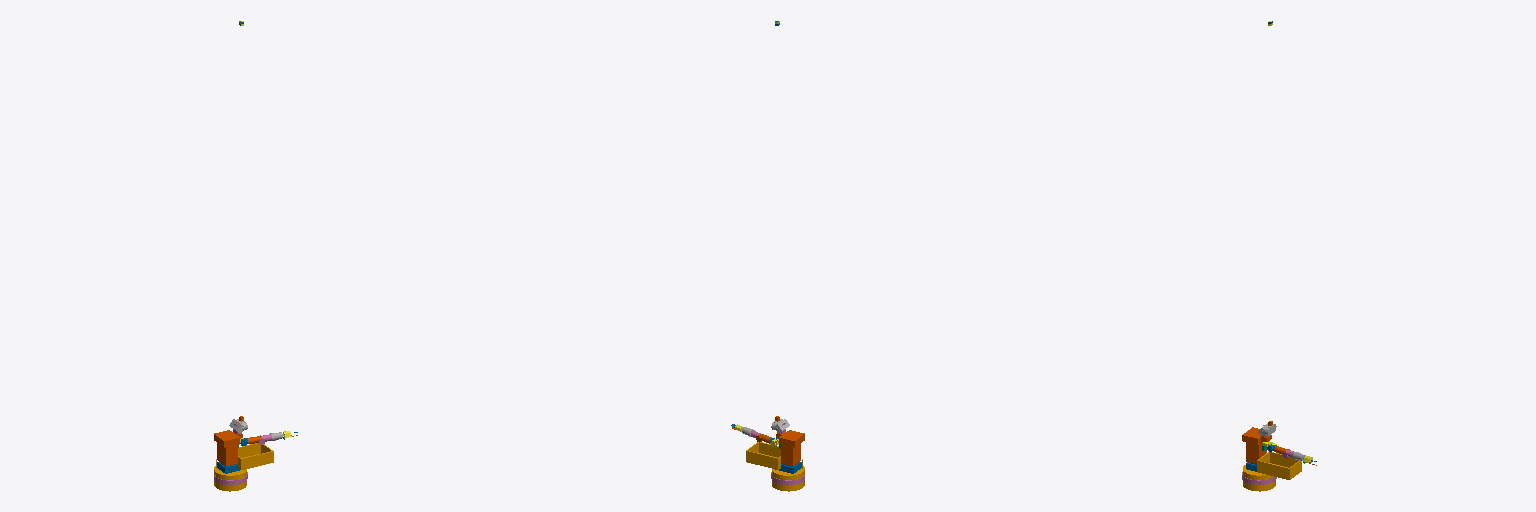
--- Facts derived from the render (not from the file) ---
3 views of the same robot in one strip: view 1: azimuth 30°, elevation 25°; view 2: azimuth 150°, elevation 25°; view 3: azimuth 330°, elevation 25° (orthographic).
Robot: TIAGo Steel — 66 links, 65 joints (9 revolute, 10 continuous, 3 prismatic, 43 fixed); root link base_link; default pose: all joints at 0 but 1 set to mid-range because 0 is outside their limits (arm_1_joint = 1.37).
Links seen in each view (by area): view 1: plastic crate(1), torso_lift_link; view 2: plastic crate(1), torso_lift_link; view 3: plastic crate(1), torso_lift_link.
Boxes of the visible links, box(x1,y1,x2,y2) form: plastic crate(1): box(237, 443, 273, 469); torso_lift_link: box(214, 430, 242, 465); plastic crate(1): box(746, 442, 780, 469); torso_lift_link: box(776, 430, 804, 465); plastic crate(1): box(1257, 452, 1301, 479); torso_lift_link: box(1242, 427, 1271, 463).
Bounding box of the posed robot: 1.41 × 0.544 × 8.11 m (x, y, z).
Geometry: primitives only (box / cylinder / sphere), no mesh files.

The robot description file, URDF, robot "TIAGo Steel":
<?xml version="1.0"?>
<robot name="TIAGo Steel" xmlns:xacro="http://ros.org/wiki/xacro">
  <link name="base_link">
    <visual>
      <origin xyz="0 0 0.06" rpy="0 0 0"/>
      <geometry>
        <cylinder radius="0.265" length="0.276"/>
      </geometry>
    </visual>
    <collision>
      <origin xyz="0 0 0.06" rpy="0 0 0"/>
      <geometry>
        <cylinder radius="0.265" length="0.276"/>
      </geometry>
    </collision>
    <visual>
      <origin xyz="-0.201 0.1062 0.28" rpy="0 0 0"/>
      <geometry>
        <cylinder radius="0.007" length="0.173"/>
      </geometry>
    </visual>
    <collision>
      <origin xyz="-0.201 0.1062 0.28" rpy="0 0 0"/>
      <geometry>
        <cylinder radius="0.007" length="0.173"/>
      </geometry>
    </collision>
    <visual>
      <origin xyz="-0.201 -0.1062 0.28" rpy="0 0 0"/>
      <geometry>
        <cylinder radius="0.007" length="0.173"/>
      </geometry>
    </visual>
    <collision>
      <origin xyz="-0.201 -0.1062 0.28" rpy="0 0 0"/>
      <geometry>
        <cylinder radius="0.007" length="0.173"/>
      </geometry>
    </collision>
  </link>
  <joint name="CASTER_WHEEL_BACK_LEFT_JOINT" type="continuous">
    <parent link="base_link"/>
    <child link="caster_back_left_1_link"/>
    <axis xyz="-0.000001 0 1"/>
    <origin xyz="-0.1735 0.102 -0.0335" rpy="0 0.000001 0.762229"/>
  </joint>
  <link name="caster_back_left_1_link">
    <visual>
      <origin xyz="-0.003001 0.000001 -0.02183" rpy="0 0 0"/>
      <geometry>
        <box size="0.036 0.032 0.04"/>
      </geometry>
    </visual>
    <collision>
      <origin xyz="-0.003001 0.000001 -0.02183" rpy="0 0 0"/>
      <geometry>
        <box size="0.036 0.032 0.04"/>
      </geometry>
    </collision>
  </link>
  <joint name="SMALL_WHEEL_JOINT" type="continuous">
    <parent link="caster_back_left_1_link"/>
    <child link="caster_back_left_2_link"/>
    <axis xyz="0 -0.000004 1"/>
    <origin xyz="-0.016001 0.000001 -0.03983" rpy="-1.5708 0.019738 0"/>
  </joint>
  <link name="caster_back_left_2_link">
    <visual>
      <origin xyz="0 0 0" rpy="0 0 0"/>
      <geometry>
        <cylinder radius="0.025" length="0.015"/>
      </geometry>
    </visual>
    <collision>
      <origin xyz="0 0 0" rpy="0 0 0"/>
      <geometry>
        <cylinder radius="0.025" length="0.015"/>
      </geometry>
    </collision>
  </link>
  <joint name="CASTER_WHEEL_BACK_RIGHT_JOINT" type="continuous">
    <parent link="base_link"/>
    <child link="caster_back_right_1_link"/>
    <axis xyz="-0.000003 0 1"/>
    <origin xyz="-0.1735 -0.102 -0.0335" rpy="0 0.000003 -0.833131"/>
  </joint>
  <link name="caster_back_right_1_link">
    <visual>
      <origin xyz="-0.003004 0.000002 -0.021547" rpy="0 0 0"/>
      <geometry>
        <box size="0.036 0.032 0.04"/>
      </geometry>
    </visual>
    <collision>
      <origin xyz="-0.003004 0.000002 -0.021547" rpy="0 0 0"/>
      <geometry>
        <box size="0.036 0.032 0.04"/>
      </geometry>
    </collision>
  </link>
  <joint name="SMALL_WHEEL_JOINT_0" type="continuous">
    <parent link="caster_back_right_1_link"/>
    <child link="caster_back_right_2_link"/>
    <axis xyz="0 -0.000004 1"/>
    <origin xyz="-0.016004 0.000002 -0.039547" rpy="-1.5708 0.060546 0"/>
  </joint>
  <link name="caster_back_right_2_link">
    <visual>
      <origin xyz="0 0 0" rpy="0 0 0"/>
      <geometry>
        <cylinder radius="0.025" length="0.015"/>
      </geometry>
    </visual>
    <collision>
      <origin xyz="0 0 0" rpy="0 0 0"/>
      <geometry>
        <cylinder radius="0.025" length="0.015"/>
      </geometry>
    </collision>
  </link>
  <joint name="CASTER_WHEEL_FRONT_LEFT_JOINT" type="continuous">
    <parent link="base_link"/>
    <child link="caster_front_left_1_link"/>
    <axis xyz="-0.000003 0 1"/>
    <origin xyz="0.1695 0.102 -0.0335" rpy="0 0.000003 -0.264625"/>
  </joint>
  <link name="caster_front_left_1_link">
    <visual>
      <origin xyz="-0.003004 0.000002 -0.02154" rpy="0 0 0"/>
      <geometry>
        <box size="0.036 0.032 0.04"/>
      </geometry>
    </visual>
    <collision>
      <origin xyz="-0.003004 0.000002 -0.02154" rpy="0 0 0"/>
      <geometry>
        <box size="0.036 0.032 0.04"/>
      </geometry>
    </collision>
  </link>
  <joint name="SMALL_WHEEL_JOINT_1" type="continuous">
    <parent link="caster_front_left_1_link"/>
    <child link="caster_front_left_2_link"/>
    <axis xyz="0 -0.000004 1"/>
    <origin xyz="-0.016004 0.000002 -0.03954" rpy="-1.5708 0.04558 0"/>
  </joint>
  <link name="caster_front_left_2_link">
    <visual>
      <origin xyz="0 0 0" rpy="0 0 0"/>
      <geometry>
        <cylinder radius="0.025" length="0.015"/>
      </geometry>
    </visual>
    <collision>
      <origin xyz="0 0 0" rpy="0 0 0"/>
      <geometry>
        <cylinder radius="0.025" length="0.015"/>
      </geometry>
    </collision>
  </link>
  <joint name="CASTER_WHEEL_FRONT_RIGHT_JOINT" type="continuous">
    <parent link="base_link"/>
    <child link="caster_front_right_1_link"/>
    <axis xyz="-0.000005 0 1"/>
    <origin xyz="0.1695 -0.102 -0.0335" rpy="0 0.000005 -0.331093"/>
  </joint>
  <link name="caster_front_right_1_link">
    <visual>
      <origin xyz="-0.003007 0.000003 -0.021257" rpy="0 0 0"/>
      <geometry>
        <box size="0.036 0.032 0.04"/>
      </geometry>
    </visual>
    <collision>
      <origin xyz="-0.003007 0.000003 -0.021257" rpy="0 0 0"/>
      <geometry>
        <box size="0.036 0.032 0.04"/>
      </geometry>
    </collision>
  </link>
  <joint name="SMALL_WHEEL_JOINT_2" type="continuous">
    <parent link="caster_front_right_1_link"/>
    <child link="caster_front_right_2_link"/>
    <axis xyz="0 -0.000004 1"/>
    <origin xyz="-0.016007 0.000003 -0.039257" rpy="-1.5708 0.031918 0"/>
  </joint>
  <link name="caster_front_right_2_link">
    <visual>
      <origin xyz="0 0 0" rpy="0 0 0"/>
      <geometry>
        <cylinder radius="0.025" length="0.015"/>
      </geometry>
    </visual>
    <collision>
      <origin xyz="0 0 0" rpy="0 0 0"/>
      <geometry>
        <cylinder radius="0.025" length="0.015"/>
      </geometry>
    </collision>
  </link>
  <joint name="wheel_left_joint" type="continuous">
    <parent link="base_link"/>
    <child link="wheel_left_link"/>
    <axis xyz="0 -0.000004 -1"/>
    <limit effort="10" velocity="10.1523"/>
    <origin xyz="0 0.2022 0" rpy="1.570801 0.015687 0"/>
  </joint>
  <link name="wheel_left_link">
    <visual>
      <origin xyz="-0.000002 0.000055 0.000193" rpy="0 0 0"/>
      <geometry>
        <cylinder radius="0.0985" length="0.04"/>
      </geometry>
    </visual>
    <collision>
      <origin xyz="-0.000002 0.000055 0.000193" rpy="0 0 0"/>
      <geometry>
        <cylinder radius="0.0985" length="0.04"/>
      </geometry>
    </collision>
  </link>
  <joint name="wheel_right_joint" type="continuous">
    <parent link="base_link"/>
    <child link="wheel_right_link"/>
    <axis xyz="0 -0.000005 -1"/>
    <limit effort="10" velocity="10.1523"/>
    <origin xyz="-0.000002 -0.202145 0.000193" rpy="1.570801 0.015425 0"/>
  </joint>
  <link name="wheel_right_link">
    <visual>
      <origin xyz="-0.000007 0.000291 -0.000214" rpy="0 0 0"/>
      <geometry>
        <cylinder radius="0.0985" length="0.04"/>
      </geometry>
    </visual>
    <collision>
      <origin xyz="-0.000007 0.000291 -0.000214" rpy="0 0 0"/>
      <geometry>
        <cylinder radius="0.0985" length="0.04"/>
      </geometry>
    </collision>
  </link>
  <link name="base_sonar_01_link">
  </link>
  <joint name="base_link_base_sonar_01_link_joint" type="fixed">
    <parent link="base_link"/>
    <child link="base_sonar_01_link"/>
    <origin xyz="-0.183007 -0.182709 0.172786" rpy="0 0 -2.356185"/>
  </joint>
  <link name="base_sonar_02_link">
  </link>
  <joint name="base_link_base_sonar_02_link_joint" type="fixed">
    <parent link="base_link"/>
    <child link="base_sonar_02_link"/>
    <origin xyz="-0.259 0 0.173" rpy="0 0 -3.141585"/>
  </joint>
  <link name="base_sonar_03_link">
  </link>
  <joint name="base_link_base_sonar_03_link_joint" type="fixed">
    <parent link="base_link"/>
    <child link="base_sonar_03_link"/>
    <origin xyz="-0.183 0.183 0.173" rpy="0 0 2.3562"/>
  </joint>
  <link name="base_cover_link">
    <visual>
      <origin xyz="0 0 0.043" rpy="0 0 0"/>
      <geometry>
        <cylinder radius="0.272" length="0.086"/>
      </geometry>
    </visual>
    <collision>
      <origin xyz="0 0 0.043" rpy="0 0 0"/>
      <geometry>
        <cylinder radius="0.272" length="0.086"/>
      </geometry>
    </collision>
  </link>
  <joint name="base_link_base_cover_link_joint" type="fixed">
    <parent link="base_link"/>
    <child link="base_cover_link"/>
    <origin xyz="0.000001 -0.000001 0.029976" rpy="0 0 0"/>
  </joint>
  <link name="base_footprint">
  </link>
  <joint name="base_link_base_footprint_joint" type="fixed">
    <parent link="base_link"/>
    <child link="base_footprint"/>
    <origin xyz="0 0 -0.095" rpy="0 0 0"/>
  </joint>
  <link name="gyro">
  </link>
  <joint name="base_link_gyro_joint" type="fixed">
    <parent link="base_link"/>
    <child link="gyro"/>
    <origin xyz="0 0 0" rpy="0 0 0"/>
  </joint>
  <link name="inertial unit">
  </link>
  <joint name="base_link_inertial unit_joint" type="fixed">
    <parent link="base_link"/>
    <child link="inertial unit"/>
    <origin xyz="0 0 0" rpy="0 0 0"/>
  </joint>
  <link name="accelerometer">
  </link>
  <joint name="base_link_accelerometer_joint" type="fixed">
    <parent link="base_link"/>
    <child link="accelerometer"/>
    <origin xyz="0 0 0" rpy="0 0 0"/>
  </joint>
  <link name="slam_lidar_1">
    <visual>
      <origin xyz="0 0 -0.018" rpy="1.570741 0.000118 -1.570741"/>
      <geometry>
        <box size="0.05 0.07 0.05"/>
      </geometry>
    </visual>
    <collision>
      <origin xyz="0 0 -0.018" rpy="1.570741 0.000118 -1.570741"/>
      <geometry>
        <box size="0.05 0.07 0.05"/>
      </geometry>
    </collision>
  </link>
  <joint name="base_link_slam_lidar_1_joint" type="fixed">
    <parent link="base_link"/>
    <child link="slam_lidar_1"/>
    <origin xyz="0.202 0 7.996" rpy="0 0 3.14159"/>
  </joint>
  <link name="slam_lidar_0">
    <visual>
      <origin xyz="0 0 -0.018" rpy="1.570741 0.000118 -1.570741"/>
      <geometry>
        <box size="0.05 0.07 0.05"/>
      </geometry>
    </visual>
    <collision>
      <origin xyz="0 0 -0.018" rpy="1.570741 0.000118 -1.570741"/>
      <geometry>
        <box size="0.05 0.07 0.05"/>
      </geometry>
    </collision>
  </link>
  <joint name="base_link_slam_lidar_0_joint" type="fixed">
    <parent link="base_link"/>
    <child link="slam_lidar_0"/>
    <origin xyz="0.202 0 7.996" rpy="0 0 0"/>
  </joint>
  <link name="onboard_lidar_1">
    <visual>
      <origin xyz="0 0 -0.018" rpy="1.570741 0.000118 -1.570741"/>
      <geometry>
        <box size="0.05 0.07 0.05"/>
      </geometry>
    </visual>
    <collision>
      <origin xyz="0 0 -0.018" rpy="1.570741 0.000118 -1.570741"/>
      <geometry>
        <box size="0.05 0.07 0.05"/>
      </geometry>
    </collision>
  </link>
  <joint name="base_link_onboard_lidar_1_joint" type="fixed">
    <parent link="base_link"/>
    <child link="onboard_lidar_1"/>
    <origin xyz="0.202 0 1.046" rpy="0 0 0"/>
  </joint>
  <link name="gps(1)">
  </link>
  <joint name="base_link_gps(1)_joint" type="fixed">
    <parent link="base_link"/>
    <child link="gps(1)"/>
    <origin xyz="0.202 0 -0.004" rpy="0 0 0"/>
  </joint>
  <link name="compass(1)">
  </link>
  <joint name="base_link_compass(1)_joint" type="fixed">
    <parent link="base_link"/>
    <child link="compass(1)"/>
    <origin xyz="0.202 0 -0.004" rpy="0 0 0"/>
  </joint>
  <link name="plastic crate(1)">
    <visual>
      <origin xyz="0 0.0035 0" rpy="0 0 0"/>
      <geometry>
        <box size="0.6 0.01 0.4"/>
      </geometry>
    </visual>
    <collision>
      <origin xyz="0 0.0035 0" rpy="0 0 0"/>
      <geometry>
        <box size="0.6 0.01 0.4"/>
      </geometry>
    </collision>
    <visual>
      <origin xyz="0.2895 0.1035 0" rpy="0 0 0"/>
      <geometry>
        <box size="0.021 0.193 0.372"/>
      </geometry>
    </visual>
    <collision>
      <origin xyz="0.2895 0.1035 0" rpy="0 0 0"/>
      <geometry>
        <box size="0.021 0.193 0.372"/>
      </geometry>
    </collision>
    <visual>
      <origin xyz="-0.2895 0.1035 0" rpy="0 0 0"/>
      <geometry>
        <box size="0.021 0.193 0.372"/>
      </geometry>
    </visual>
    <collision>
      <origin xyz="-0.2895 0.1035 0" rpy="0 0 0"/>
      <geometry>
        <box size="0.021 0.193 0.372"/>
      </geometry>
    </collision>
    <visual>
      <origin xyz="0 0.1035 0.193" rpy="0 0 0"/>
      <geometry>
        <box size="0.6 0.193 0.021"/>
      </geometry>
    </visual>
    <collision>
      <origin xyz="0 0.1035 0.193" rpy="0 0 0"/>
      <geometry>
        <box size="0.6 0.193 0.021"/>
      </geometry>
    </collision>
    <visual>
      <origin xyz="0 0.1035 -0.193" rpy="0 0 0"/>
      <geometry>
        <box size="0.6 0.193 0.021"/>
      </geometry>
    </visual>
    <collision>
      <origin xyz="0 0.1035 -0.193" rpy="0 0 0"/>
      <geometry>
        <box size="0.6 0.193 0.021"/>
      </geometry>
    </collision>
  </link>
  <joint name="base_link_plastic crate(1)_joint" type="fixed">
    <parent link="base_link"/>
    <child link="plastic crate(1)"/>
    <origin xyz="0.372 -0.01 0.236" rpy="1.570791 -0.000005 -3.141587"/>
  </joint>
  <link name="Hokuyo URG-04LX-UG01">
    <visual>
      <origin xyz="0 0 -0.018" rpy="1.570741 0.000118 -1.570741"/>
      <geometry>
        <box size="0.05 0.07 0.05"/>
      </geometry>
    </visual>
    <collision>
      <origin xyz="0 0 -0.018" rpy="1.570741 0.000118 -1.570741"/>
      <geometry>
        <box size="0.05 0.07 0.05"/>
      </geometry>
    </collision>
  </link>
  <joint name="base_link_Hokuyo URG-04LX-UG01_joint" type="fixed">
    <parent link="base_link"/>
    <child link="Hokuyo URG-04LX-UG01"/>
    <origin xyz="0.202 0 -0.004" rpy="0 0 0"/>
  </joint>
  <link name="gps">
  </link>
  <joint name="base_link_gps_joint" type="fixed">
    <parent link="base_link"/>
    <child link="gps"/>
    <origin xyz="0.202 0 -0.004" rpy="0 0 0"/>
  </joint>
  <link name="compass">
  </link>
  <joint name="base_link_compass_joint" type="fixed">
    <parent link="base_link"/>
    <child link="compass"/>
    <origin xyz="0.202 0 -0.004" rpy="0 0 0"/>
  </joint>
  <link name="Torso">
    <visual>
      <origin xyz="0 0 0.275" rpy="0 0 0"/>
      <geometry>
        <box size="0.18 0.2 0.55"/>
      </geometry>
    </visual>
    <collision>
      <origin xyz="0 0 0.275" rpy="0 0 0"/>
      <geometry>
        <box size="0.18 0.2 0.55"/>
      </geometry>
    </collision>
    <visual>
      <origin xyz="0.085 0 0.02" rpy="0 0 0"/>
      <geometry>
        <box size="0.4 0.254 0.04"/>
      </geometry>
    </visual>
    <collision>
      <origin xyz="0.085 0 0.02" rpy="0 0 0"/>
      <geometry>
        <box size="0.4 0.254 0.04"/>
      </geometry>
    </collision>
    <visual>
      <origin xyz="0.001 0 0.05" rpy="0 0 0"/>
      <geometry>
        <box size="0.233 0.26 0.12"/>
      </geometry>
    </visual>
    <collision>
      <origin xyz="0.001 0 0.05" rpy="0 0 0"/>
      <geometry>
        <box size="0.233 0.26 0.12"/>
      </geometry>
    </collision>
  </link>
  <joint name="base_link_Torso_joint" type="fixed">
    <parent link="base_link"/>
    <child link="Torso"/>
    <origin xyz="-0.054 0 0.193" rpy="0 0 0"/>
  </joint>
  <joint name="torso_lift_joint" type="prismatic">
    <parent link="Torso"/>
    <child link="torso_lift_link"/>
    <axis xyz="-0.000028 0.00006 1"/>
    <origin xyz="0.000025 -0.00005 0.600001" rpy="0.00006 0.000028 0"/>
    <limit effort="2000" lower="-0.000253603" upper="0.35" velocity="0.07"/>
  </joint>
  <link name="torso_lift_link">
    <visual>
      <origin xyz="0.164 0 -0.032254" rpy="0 0 0"/>
      <geometry>
        <box size="0.15 0.138 0.074"/>
      </geometry>
    </visual>
    <collision>
      <origin xyz="0.164 0 -0.032254" rpy="0 0 0"/>
      <geometry>
        <box size="0.15 0.138 0.074"/>
      </geometry>
    </collision>
    <visual>
      <origin xyz="0.1389 0 -0.043454" rpy="0 -0.43 0"/>
      <geometry>
        <box size="0.12 0.134 0.097"/>
      </geometry>
    </visual>
    <collision>
      <origin xyz="0.1389 0 -0.043454" rpy="0 -0.43 0"/>
      <geometry>
        <box size="0.12 0.134 0.097"/>
      </geometry>
    </collision>
    <visual>
      <origin xyz="-0.016 0 -0.050254" rpy="0 0 0"/>
      <geometry>
        <box size="0.291 0.333 0.11"/>
      </geometry>
    </visual>
    <collision>
      <origin xyz="-0.016 0 -0.050254" rpy="0 0 0"/>
      <geometry>
        <box size="0.291 0.333 0.11"/>
      </geometry>
    </collision>
    <visual>
      <origin xyz="0.003 0 -0.283254" rpy="0 0 0"/>
      <geometry>
        <box size="0.228 0.263 0.358"/>
      </geometry>
    </visual>
    <collision>
      <origin xyz="0.003 0 -0.283254" rpy="0 0 0"/>
      <geometry>
        <box size="0.228 0.263 0.358"/>
      </geometry>
    </collision>
  </link>
  <joint name="head_1_joint" type="revolute">
    <parent link="torso_lift_link"/>
    <child link="head_1_link"/>
    <axis xyz="0 -0.000004 1"/>
    <limit effort="5.197" lower="-1.24" upper="1.24" velocity="3"/>
    <origin xyz="0.182 0 -0.000254" rpy="-0.000004 0 -1.570795"/>
  </joint>
  <link name="head_1_link">
    <visual>
      <origin xyz="0.010002 0.000026 0.096981" rpy="-1.5708 0 0"/>
      <geometry>
        <cylinder radius="0.082" length="0.09"/>
      </geometry>
    </visual>
    <collision>
      <origin xyz="0.010002 0.000026 0.096981" rpy="-1.5708 0 0"/>
      <geometry>
        <cylinder radius="0.082" length="0.09"/>
      </geometry>
    </collision>
    <visual>
      <origin xyz="-0.004998 0.000026 0.004981" rpy="0 0 0"/>
      <geometry>
        <box size="0.103 0.088 0.103"/>
      </geometry>
    </visual>
    <collision>
      <origin xyz="-0.004998 0.000026 0.004981" rpy="0 0 0"/>
      <geometry>
        <box size="0.103 0.088 0.103"/>
      </geometry>
    </collision>
  </link>
  <joint name="head_2_joint" type="revolute">
    <parent link="head_1_link"/>
    <child link="head_2_link"/>
    <axis xyz="-1 0.000005 -0.000002"/>
    <limit effort="2.77" lower="-0.98" upper="0.79" velocity="3"/>
    <origin xyz="0.005002 0.000026 0.097981" rpy="1.570798 -0.000005 1.570798"/>
  </joint>
  <link name="head_2_link">
    <visual>
      <origin xyz="-0.008997 0.026411 0.000007" rpy="0 0 -0.7"/>
      <geometry>
        <box size="0.092 0.132 0.26"/>
      </geometry>
    </visual>
    <collision>
      <origin xyz="-0.008997 0.026411 0.000007" rpy="0 0 -0.7"/>
      <geometry>
        <box size="0.092 0.132 0.26"/>
      </geometry>
    </collision>
    <visual>
      <origin xyz="0.008003 -0.039189 0.000007" rpy="0 0 -1.5708"/>
      <geometry>
        <cylinder radius="0.03" length="0.132"/>
      </geometry>
    </visual>
    <collision>
      <origin xyz="0.008003 -0.039189 0.000007" rpy="0 0 -1.5708"/>
      <geometry>
        <cylinder radius="0.03" length="0.132"/>
      </geometry>
    </collision>
    <visual>
      <origin xyz="0.054003 0.039811 0.000007" rpy="0 0 0"/>
      <geometry>
        <box size="0.111 0.13 0.16"/>
      </geometry>
    </visual>
    <collision>
      <origin xyz="0.054003 0.039811 0.000007" rpy="0 0 0"/>
      <geometry>
        <box size="0.111 0.13 0.16"/>
      </geometry>
    </collision>
    <visual>
      <origin xyz="0.053003 0.035811 -0.067993" rpy="3.141593 -1.570793 3.141593"/>
      <geometry>
        <cylinder radius="0.0667" length="0.111"/>
      </geometry>
    </visual>
    <collision>
      <origin xyz="0.053003 0.035811 -0.067993" rpy="3.141593 -1.570793 3.141593"/>
      <geometry>
        <cylinder radius="0.0667" length="0.111"/>
      </geometry>
    </collision>
    <visual>
      <origin xyz="0.053003 0.035811 0.068007" rpy="3.141593 -1.570793 3.141593"/>
      <geometry>
        <cylinder radius="0.0667" length="0.111"/>
      </geometry>
    </visual>
    <collision>
      <origin xyz="0.053003 0.035811 0.068007" rpy="3.141593 -1.570793 3.141593"/>
      <geometry>
        <cylinder radius="0.0667" length="0.111"/>
      </geometry>
    </collision>
  </link>
  <link name="display">
  </link>
  <joint name="head_2_link_display_joint" type="fixed">
    <parent link="head_2_link"/>
    <child link="display"/>
    <origin xyz="0.107003 0.060011 0.000007" rpy="0 0 0"/>
  </joint>
  <link name="camera">
  </link>
  <joint name="head_2_link_camera_joint" type="fixed">
    <parent link="head_2_link"/>
    <child link="camera"/>
    <origin xyz="0.107 0.0802 0" rpy="-3.141592 0 -1.570796"/>
  </joint>
  <link name="TIAGo front arm">
    <visual>
      <origin xyz="0.026 0.14 -0.232" rpy="0 0 1.5708"/>
      <geometry>
        <box size="0.042 0.094 0.094"/>
      </geometry>
    </visual>
    <collision>
      <origin xyz="0.026 0.14 -0.232" rpy="0 0 1.5708"/>
      <geometry>
        <box size="0.042 0.094 0.094"/>
      </geometry>
    </collision>
    <visual>
      <origin xyz="0.0256 0.1868 -0.2661" rpy="0.261799 0 0"/>
      <geometry>
        <cylinder radius="0.053" length="0.016"/>
      </geometry>
    </visual>
    <collision>
      <origin xyz="0.0256 0.1868 -0.2661" rpy="0.261799 0 0"/>
      <geometry>
        <cylinder radius="0.053" length="0.016"/>
      </geometry>
    </collision>
    <visual>
      <origin xyz="0.026 0.19 -0.221" rpy="0 0 -1.5708"/>
      <geometry>
        <cylinder radius="0.053" length="0.075"/>
      </geometry>
    </visual>
    <collision>
      <origin xyz="0.026 0.19 -0.221" rpy="0 0 -1.5708"/>
      <geometry>
        <cylinder radius="0.053" length="0.075"/>
      </geometry>
    </collision>
  </link>
  <joint name="torso_lift_link_TIAGo front arm_joint" type="fixed">
    <parent link="torso_lift_link"/>
    <child link="TIAGo front arm"/>
    <origin xyz="-0.037 0.0388 0.0224" rpy="0 0 -1.5708"/>
  </joint>
  <joint name="arm_1_joint" type="revolute">
    <parent link="TIAGo front arm"/>
    <child link="TIAGo front arm_3"/>
    <axis xyz="0 0 1"/>
    <limit effort="43" lower="0.0698809" upper="2.68" velocity="1.95"/>
    <origin xyz="0.025 0.194 -0.16" rpy="0 0 0.008882"/>
  </joint>
  <link name="TIAGo front arm_3">
    <visual>
      <origin xyz="0.0001 -0.000001 0.002" rpy="0 0 1.5708"/>
      <geometry>
        <cylinder radius="0.0522" length="0.052"/>
      </geometry>
    </visual>
    <collision>
      <origin xyz="0.0001 -0.000001 0.002" rpy="0 0 1.5708"/>
      <geometry>
        <cylinder radius="0.0522" length="0.052"/>
      </geometry>
    </collision>
    <visual>
      <origin xyz="0.0331 0.000999 0.001" rpy="0 0 0"/>
      <geometry>
        <box size="0.08 0.1044 0.048"/>
      </geometry>
    </visual>
    <collision>
      <origin xyz="0.0331 0.000999 0.001" rpy="0 0 0"/>
      <geometry>
        <box size="0.08 0.1044 0.048"/>
      </geometry>
    </collision>
    <visual>
      <origin xyz="0.0721 0.028999 -0.023" rpy="0 0 0"/>
      <geometry>
        <box size="0.035 0.09 0.081"/>
      </geometry>
    </visual>
    <collision>
      <origin xyz="0.0721 0.028999 -0.023" rpy="0 0 0"/>
      <geometry>
        <box size="0.035 0.09 0.081"/>
      </geometry>
    </collision>
    <visual>
      <origin xyz="0.1251 0.052999 -0.042" rpy="1.5708 0 0"/>
      <geometry>
        <cylinder radius="0.053" length="0.069"/>
      </geometry>
    </visual>
    <collision>
      <origin xyz="0.1251 0.052999 -0.042" rpy="1.5708 0 0"/>
      <geometry>
        <cylinder radius="0.053" length="0.069"/>
      </geometry>
    </collision>
  </link>
  <joint name="arm_2_joint" type="revolute">
    <parent link="TIAGo front arm_3"/>
    <child link="arm_2_link"/>
    <axis xyz="0 0.000004 1"/>
    <limit effort="43" lower="-1.5" upper="1.02" velocity="1.95"/>
    <origin xyz="0.1251 0.019499 -0.042" rpy="1.5708 0.000056 0"/>
  </joint>
  <link name="arm_2_link">
    <visual>
      <origin xyz="0.056 0 -0.0005" rpy="3.141593 -1.570793 3.141593"/>
      <geometry>
        <cylinder radius="0.052" length="0.048"/>
      </geometry>
    </visual>
    <collision>
      <origin xyz="0.056 0 -0.0005" rpy="3.141593 -1.570793 3.141593"/>
      <geometry>
        <cylinder radius="0.052" length="0.048"/>
      </geometry>
    </collision>
    <visual>
      <origin xyz="0 0 0.0295" rpy="0 0 -1.5708"/>
      <geometry>
        <cylinder radius="0.053" length="0.057"/>
      </geometry>
    </visual>
    <collision>
      <origin xyz="0 0 0.0295" rpy="0 0 -1.5708"/>
      <geometry>
        <cylinder radius="0.053" length="0.057"/>
      </geometry>
    </collision>
  </link>
  <joint name="arm_3_joint" type="revolute">
    <parent link="arm_2_link"/>
    <child link="arm_3_link"/>
    <axis xyz="-0.000078 -0.000095 1"/>
    <limit effort="26" lower="-3.46" upper="1.5" velocity="2.35"/>
    <origin xyz="0.0895 0 0" rpy="-1.570892 0.000124 1.570718"/>
  </joint>
  <link name="arm_3_link">
    <visual>
      <origin xyz="0 0 -0.1037" rpy="0 0 -1.5708"/>
      <geometry>
        <cylinder radius="0.053" length="0.23"/>
      </geometry>
    </visual>
    <collision>
      <origin xyz="0 0 -0.1037" rpy="0 0 -1.5708"/>
      <geometry>
        <cylinder radius="0.053" length="0.23"/>
      </geometry>
    </collision>
    <visual>
      <origin xyz="-0.0169 0.03 -0.2187" rpy="1.5708 0 0"/>
      <geometry>
        <cylinder radius="0.056" length="0.056"/>
      </geometry>
    </visual>
    <collision>
      <origin xyz="-0.0169 0.03 -0.2187" rpy="1.5708 0 0"/>
      <geometry>
        <cylinder radius="0.056" length="0.056"/>
      </geometry>
    </collision>
  </link>
  <joint name="arm_4_joint" type="revolute">
    <parent link="arm_3_link"/>
    <child link="arm_4_link"/>
    <axis xyz="0.000004 0.000003 1"/>
    <limit effort="26" lower="-0.32" upper="2.29" velocity="2.35"/>
    <origin xyz="-0.02 -0.027 -0.2197" rpy="1.570909 -1.531814 3.141483"/>
  </joint>
  <link name="arm_4_link">
    <visual>
      <origin xyz="-0.000025 0.000922 -0.002" rpy="0 0 1.5708"/>
      <geometry>
        <cylinder radius="0.054" length="0.056"/>
      </geometry>
    </visual>
    <collision>
      <origin xyz="-0.000025 0.000922 -0.002" rpy="0 0 1.5708"/>
      <geometry>
        <cylinder radius="0.054" length="0.056"/>
      </geometry>
    </collision>
    <visual>
      <origin xyz="-0.093025 0.018922 0.027" rpy="3.141593 1.570793 3.141593"/>
      <geometry>
        <cylinder radius="0.052" length="0.191"/>
      </geometry>
    </visual>
    <collision>
      <origin xyz="-0.093025 0.018922 0.027" rpy="3.141593 1.570793 3.141593"/>
      <geometry>
        <cylinder radius="0.052" length="0.191"/>
      </geometry>
    </collision>
  </link>
  <joint name="arm_5_joint" type="revolute">
    <parent link="arm_4_link"/>
    <child link="arm_5_link"/>
    <axis xyz="0.000004 0 1"/>
    <limit effort="3" lower="-2.07" upper="2.07" velocity="1.95"/>
    <origin xyz="-0.162025 0.019922 0.027" rpy="-1.570797 -0.251226 1.5708"/>
  </joint>
  <link name="arm_5_link">
    <visual>
      <origin xyz="0 0 0.04" rpy="0 0 1.57"/>
      <geometry>
        <cylinder radius="0.063" length="0.062"/>
      </geometry>
    </visual>
    <collision>
      <origin xyz="0 0 0.04" rpy="0 0 1.57"/>
      <geometry>
        <cylinder radius="0.063" length="0.062"/>
      </geometry>
    </collision>
    <visual>
      <origin xyz="0 0 0.099" rpy="0 0 1.57"/>
      <geometry>
        <cylinder radius="0.057" length="0.06"/>
      </geometry>
    </visual>
    <collision>
      <origin xyz="0 0 0.099" rpy="0 0 1.57"/>
      <geometry>
        <cylinder radius="0.057" length="0.06"/>
      </geometry>
    </collision>
    <visual>
      <origin xyz="0 0 0.156" rpy="0 0 1.57"/>
      <geometry>
        <cylinder radius="0.053" length="0.06"/>
      </geometry>
    </visual>
    <collision>
      <origin xyz="0 0 0.156" rpy="0 0 1.57"/>
      <geometry>
        <cylinder radius="0.053" length="0.06"/>
      </geometry>
    </collision>
  </link>
  <joint name="arm_6_joint" type="revolute">
    <parent link="arm_5_link"/>
    <child link="arm_6_link"/>
    <axis xyz="0.000003 -0.000003 1"/>
    <limit effort="6.6" lower="-1.39" upper="1.39" velocity="1.76"/>
    <origin xyz="0 0 0.15" rpy="2.05401 -1.57079 2.658376"/>
  </joint>
  <link name="arm_6_link">
    <visual>
      <origin xyz="0.0409 0 0" rpy="3.141593 1.570793 3.141593"/>
      <geometry>
        <cylinder radius="0.0226" length="0.013"/>
      </geometry>
    </visual>
    <collision>
      <origin xyz="0.0409 0 0" rpy="3.141593 1.570793 3.141593"/>
      <geometry>
        <cylinder radius="0.0226" length="0.013"/>
      </geometry>
    </collision>
  </link>
  <joint name="arm_7_joint" type="revolute">
    <parent link="arm_6_link"/>
    <child link="arm_7_link"/>
    <axis xyz="-0.000003 0.000003 1"/>
    <limit effort="6.6" lower="-2.07" upper="2.07" velocity="1.76"/>
    <origin xyz="0 0 0" rpy="1.570782 -1.410003 1.570814"/>
  </joint>
  <link name="arm_7_link">
    <visual>
      <origin xyz="0 0 0.055" rpy="0 0 1.5708"/>
      <geometry>
        <cylinder radius="0.0225" length="0.0157"/>
      </geometry>
    </visual>
    <collision>
      <origin xyz="0 0 0.055" rpy="0 0 1.5708"/>
      <geometry>
        <cylinder radius="0.0225" length="0.0157"/>
      </geometry>
    </collision>
  </link>
  <link name="wrist_ft_tool_link">
    <visual>
      <origin xyz="0 0 0.055" rpy="0 1.57 0"/>
      <geometry>
        <cylinder radius="0.0253" length="0.011"/>
      </geometry>
    </visual>
    <collision>
      <origin xyz="0 0 0.055" rpy="0 1.57 0"/>
      <geometry>
        <cylinder radius="0.0253" length="0.011"/>
      </geometry>
    </collision>
  </link>
  <joint name="arm_7_link_wrist_ft_tool_link_joint" type="fixed">
    <parent link="arm_7_link"/>
    <child link="wrist_ft_tool_link"/>
    <origin xyz="0 0 0.067725" rpy="2.356193 -1.570792 2.356193"/>
  </joint>
  <link name="front">
    <visual>
      <origin xyz="0 0 0" rpy="0 0 0"/>
      <geometry>
        <cylinder radius="0.0227" length="0.028"/>
      </geometry>
    </visual>
    <collision>
      <origin xyz="0 0 0" rpy="0 0 0"/>
      <geometry>
        <cylinder radius="0.0227" length="0.028"/>
      </geometry>
    </collision>
    <visual>
      <origin xyz="0.029 -0.01834 -0.046" rpy="0 0 0.59"/>
      <geometry>
        <box size="0.04 0.0217 0.105"/>
      </geometry>
    </visual>
    <collision>
      <origin xyz="0.029 -0.01834 -0.046" rpy="0 0 0.59"/>
      <geometry>
        <box size="0.04 0.0217 0.105"/>
      </geometry>
    </collision>
    <visual>
      <origin xyz="-0.029 0.01834 -0.046" rpy="0 0 0.59"/>
      <geometry>
        <box size="0.04 0.0217 0.105"/>
      </geometry>
    </visual>
    <collision>
      <origin xyz="-0.029 0.01834 -0.046" rpy="0 0 0.59"/>
      <geometry>
        <box size="0.04 0.0217 0.105"/>
      </geometry>
    </collision>
    <visual>
      <origin xyz="0.0172 0.0109 -0.046" rpy="3.141593 -1.570793 3.141593"/>
      <geometry>
        <box size="0.106 0.056 0.071"/>
      </geometry>
    </visual>
    <collision>
      <origin xyz="0.0172 0.0109 -0.046" rpy="3.141593 -1.570793 3.141593"/>
      <geometry>
        <box size="0.106 0.056 0.071"/>
      </geometry>
    </collision>
    <visual>
      <origin xyz="-0.0172 -0.0109 -0.046" rpy="3.141593 -1.570793 3.141593"/>
      <geometry>
        <box size="0.106 0.056 0.071"/>
      </geometry>
    </visual>
    <collision>
      <origin xyz="-0.0172 -0.0109 -0.046" rpy="3.141593 -1.570793 3.141593"/>
      <geometry>
        <box size="0.106 0.056 0.071"/>
      </geometry>
    </collision>
  </link>
  <joint name="wrist_ft_tool_link_front_joint" type="fixed">
    <parent link="wrist_ft_tool_link"/>
    <child link="front"/>
    <origin xyz="0.016 0 0" rpy="-2.356193 1.570792 0.785393"/>
  </joint>
  <joint name="gripper_right_finger_joint" type="prismatic">
    <parent link="front"/>
    <child link="gripper_right_finger_link"/>
    <axis xyz="1 -0.000005 0"/>
    <origin xyz="0 0 0" rpy="0 0 0.000005"/>
    <limit effort="16" lower="-9.63949e-07" upper="0.045" velocity="0.05"/>
  </joint>
  <link name="gripper_right_finger_link">
    <visual>
      <origin xyz="0.003999 0 -0.1741" rpy="0 0 0"/>
      <geometry>
        <box size="0.0076 0.05091 0.08982"/>
      </geometry>
    </visual>
    <collision>
      <origin xyz="0.003999 0 -0.1741" rpy="0 0 0"/>
      <geometry>
        <box size="0.0076 0.05091 0.08982"/>
      </geometry>
    </collision>
    <visual>
      <origin xyz="0.004899 0.0153 -0.1208" rpy="0 0 0"/>
      <geometry>
        <box size="0.0055 0.0295 0.018"/>
      </geometry>
    </visual>
    <collision>
      <origin xyz="0.004899 0.0153 -0.1208" rpy="0 0 0"/>
      <geometry>
        <box size="0.0055 0.0295 0.018"/>
      </geometry>
    </collision>
    <visual>
      <origin xyz="-0.008501 0.0156 -0.1048" rpy="0 0 0"/>
      <geometry>
        <box size="0.03213 0.02959 0.01487"/>
      </geometry>
    </visual>
    <collision>
      <origin xyz="-0.008501 0.0156 -0.1048" rpy="0 0 0"/>
      <geometry>
        <box size="0.03213 0.02959 0.01487"/>
      </geometry>
    </collision>
  </link>
  <joint name="gripper_left_finger_joint" type="prismatic">
    <parent link="front"/>
    <child link="gripper_left_finger_link"/>
    <axis xyz="1 0.000093 0"/>
    <origin xyz="-0.000001 0 0" rpy="0 0 3.1415"/>
    <limit effort="16" lower="0" upper="0.0450018" velocity="0.05"/>
  </joint>
  <link name="gripper_left_finger_link">
    <visual>
      <origin xyz="0.049002 0.000004 -0.1741" rpy="0 0 0"/>
      <geometry>
        <box size="0.0076 0.05091 0.08982"/>
      </geometry>
    </visual>
    <collision>
      <origin xyz="0.049002 0.000004 -0.1741" rpy="0 0 0"/>
      <geometry>
        <box size="0.0076 0.05091 0.08982"/>
      </geometry>
    </collision>
    <visual>
      <origin xyz="0.049902 0.015304 -0.1208" rpy="0 0 0"/>
      <geometry>
        <box size="0.0055 0.0295 0.018"/>
      </geometry>
    </visual>
    <collision>
      <origin xyz="0.049902 0.015304 -0.1208" rpy="0 0 0"/>
      <geometry>
        <box size="0.0055 0.0295 0.018"/>
      </geometry>
    </collision>
    <visual>
      <origin xyz="0.036502 0.015604 -0.1048" rpy="0 0 0"/>
      <geometry>
        <box size="0.03213 0.02959 0.01487"/>
      </geometry>
    </visual>
    <collision>
      <origin xyz="0.036502 0.015604 -0.1048" rpy="0 0 0"/>
      <geometry>
        <box size="0.03213 0.02959 0.01487"/>
      </geometry>
    </collision>
  </link>
  <link name="cap screw(19)">
  </link>
  <joint name="front_cap screw(19)_joint" type="fixed">
    <parent link="front"/>
    <child link="cap screw(19)"/>
    <origin xyz="0.086502 -0.002896 -0.0004" rpy="3.14159 0 0"/>
  </joint>
  <link name="cap screw(18)">
  </link>
  <joint name="front_cap screw(18)_joint" type="fixed">
    <parent link="front"/>
    <child link="cap screw(18)"/>
    <origin xyz="-0.0415 0.0029 -0.0004" rpy="3.14159 0 0"/>
  </joint>
  <link name="cap screw(17)">
  </link>
  <joint name="front_cap screw(17)_joint" type="fixed">
    <parent link="front"/>
    <child link="cap screw(17)"/>
    <origin xyz="0.0433 0.0315 0.0026" rpy="3.14159 0 0"/>
  </joint>
  <link name="cap screw(16)">
  </link>
  <joint name="front_cap screw(16)_joint" type="fixed">
    <parent link="front"/>
    <child link="cap screw(16)"/>
    <origin xyz="-0.0433 -0.0315 0.0026" rpy="3.14159 0 0"/>
  </joint>
  <link name="cap screw(15)">
  </link>
  <joint name="front_cap screw(15)_joint" type="fixed">
    <parent link="front"/>
    <child link="cap screw(15)"/>
    <origin xyz="0 0.033 0.0026" rpy="3.14159 0 0"/>
  </joint>
  <link name="cap screw(14)">
  </link>
  <joint name="front_cap screw(14)_joint" type="fixed">
    <parent link="front"/>
    <child link="cap screw(14)"/>
    <origin xyz="0 -0.033 0.0026" rpy="3.14159 0 0"/>
  </joint>
  <link name="cap screw(13)">
  </link>
  <joint name="front_cap screw(13)_joint" type="fixed">
    <parent link="front"/>
    <child link="cap screw(13)"/>
    <origin xyz="0.0426 -0.0094 -0.09448" rpy="0 0 0"/>
  </joint>
  <link name="cap screw(12)">
  </link>
  <joint name="front_cap screw(12)_joint" type="fixed">
    <parent link="front"/>
    <child link="cap screw(12)"/>
    <origin xyz="-0.0425 0.0094 -0.0945" rpy="0 0 0"/>
  </joint>
  <link name="cap screw(11)">
  </link>
  <joint name="front_cap screw(11)_joint" type="fixed">
    <parent link="front"/>
    <child link="cap screw(11)"/>
    <origin xyz="-0.0477 -0.008 -0.0108" rpy="3.141593 1.570793 3.141593"/>
  </joint>
  <link name="cap screw(10)">
  </link>
  <joint name="front_cap screw(10)_joint" type="fixed">
    <parent link="front"/>
    <child link="cap screw(10)"/>
    <origin xyz="-0.0477 -0.008 -0.043" rpy="3.141593 1.570793 3.141593"/>
  </joint>
  <link name="cap screw(9)">
  </link>
  <joint name="front_cap screw(9)_joint" type="fixed">
    <parent link="front"/>
    <child link="cap screw(9)"/>
    <origin xyz="-0.0477 -0.008 -0.075" rpy="3.141593 1.570793 3.141593"/>
  </joint>
  <link name="cap screw(8)">
  </link>
  <joint name="front_cap screw(8)_joint" type="fixed">
    <parent link="front"/>
    <child link="cap screw(8)"/>
    <origin xyz="-0.0477 0.008 -0.075" rpy="3.141593 1.570793 3.141593"/>
  </joint>
  <link name="cap screw(7)">
  </link>
  <joint name="front_cap screw(7)_joint" type="fixed">
    <parent link="front"/>
    <child link="cap screw(7)"/>
    <origin xyz="-0.0477 0.008 -0.043" rpy="3.141593 1.570793 3.141593"/>
  </joint>
  <link name="cap screw(6)">
  </link>
  <joint name="front_cap screw(6)_joint" type="fixed">
    <parent link="front"/>
    <child link="cap screw(6)"/>
    <origin xyz="-0.0477 0.008 -0.0108" rpy="3.141593 1.570793 3.141593"/>
  </joint>
  <link name="cap screw(5)">
  </link>
  <joint name="front_cap screw(5)_joint" type="fixed">
    <parent link="front"/>
    <child link="cap screw(5)"/>
    <origin xyz="0.0477 -0.008 -0.0108" rpy="3.141593 -1.570793 3.141593"/>
  </joint>
  <link name="cap screw(4)">
  </link>
  <joint name="front_cap screw(4)_joint" type="fixed">
    <parent link="front"/>
    <child link="cap screw(4)"/>
    <origin xyz="0.0477 -0.008 -0.043" rpy="3.141593 -1.570793 3.141593"/>
  </joint>
  <link name="cap screw(3)">
  </link>
  <joint name="front_cap screw(3)_joint" type="fixed">
    <parent link="front"/>
    <child link="cap screw(3)"/>
    <origin xyz="0.0477 -0.008 -0.075" rpy="3.141593 -1.570793 3.141593"/>
  </joint>
  <link name="cap screw(2)">
  </link>
  <joint name="front_cap screw(2)_joint" type="fixed">
    <parent link="front"/>
    <child link="cap screw(2)"/>
    <origin xyz="0.0477 0.008 -0.075" rpy="3.141593 -1.570793 3.141593"/>
  </joint>
  <link name="cap screw(1)">
  </link>
  <joint name="front_cap screw(1)_joint" type="fixed">
    <parent link="front"/>
    <child link="cap screw(1)"/>
    <origin xyz="0.0477 0.008 -0.043" rpy="3.141593 -1.570793 3.141593"/>
  </joint>
  <link name="cap screw">
  </link>
  <joint name="front_cap screw_joint" type="fixed">
    <parent link="front"/>
    <child link="cap screw"/>
    <origin xyz="0.0477 0.008 -0.0108" rpy="3.141593 -1.570793 3.141593"/>
  </joint>
</robot>
